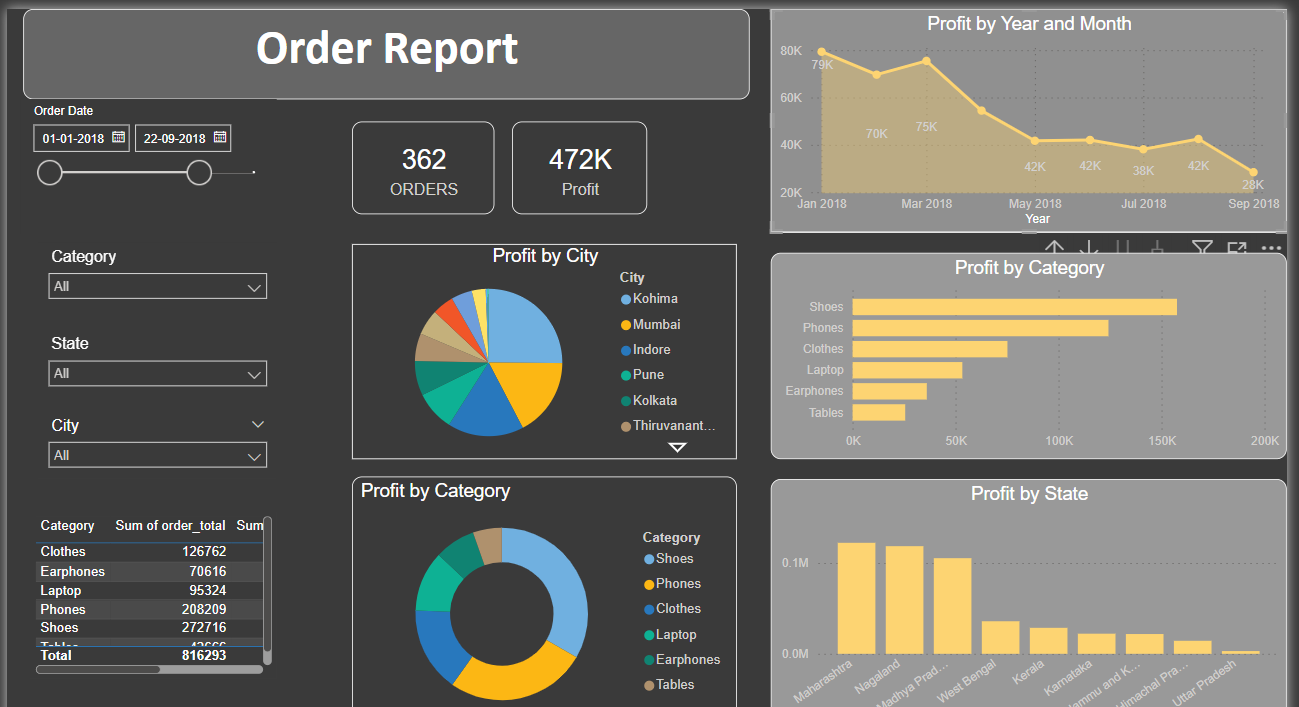

What the dashboard file says about the page in this screenshot:
{"tool":"powerbi","page":{"name":"Page 1","canvas":[1280,720],"ordinal":0},"visuals":[{"type":"textbox","box":[16,0,726,90],"z":0},{"type":"card","fields":{"Values":["CountNonNull(Orders.Order ID)"]},"box":[345,112.5,142.5,92.5],"z":1000},{"type":"card","fields":{"Values":["Sum(Orders.Profit)"]},"box":[505,112.5,135,92.5],"z":2000},{"type":"stackedAreaChart","fields":{"Category":["Orders.Order Date.Variation.Date Hierarchy.Year","Orders.Order Date.Variation.Date Hierarchy.Month"],"Y":["Sum(Orders.Profit)"]},"box":[764,0,516,224],"z":3000},{"type":"clusteredBarChart","fields":{"Y":["Sum(Orders.Profit)"],"Category":["Orders.Category"]},"box":[764,244,516,206],"z":4000},{"type":"clusteredColumnChart","fields":{"Category":["Orders.State"],"Y":["Sum(Orders.Profit)"]},"box":[764,470,516,250],"z":5000},{"type":"donutChart","fields":{"Y":["Sum(Orders.Profit)"],"Category":["Orders.Category"]},"box":[345,467.5,385,252.5],"z":6000},{"type":"pieChart","fields":{"Category":["Orders.City"],"Y":["Sum(Orders.Profit)"]},"box":[345,235,385,215],"z":7000},{"type":"tableEx","fields":{"Values":["Orders.Category","Sum(Orders.order_total)","Sum(Orders.Product cost)","Sum(Orders.Profit)"]},"box":[22.5,502.5,247.5,167.5],"z":8000},{"type":"slicer","fields":{"Values":["Orders.Order Date"]},"box":[14.3,90,255.7,134.3],"z":9000},{"type":"slicer","fields":{"Values":["Orders.Category"]},"box":[31.2,233.8,238.8,87.5],"z":10000},{"type":"slicer","fields":{"Values":["Orders.City"]},"box":[31.2,402.5,238.8,67.5],"z":11000},{"type":"slicer","fields":{"Values":["Orders.State"]},"box":[31.2,321.2,238.8,81.2],"z":12000}]}

Visuals, with their boxes in screenshot pixels (x1, y1, x2, y2):
textbox: bbox=[16, 0, 745, 90]
card - CountNonNull(Orders.Order ID): bbox=[346, 113, 489, 206]
card - Sum(Orders.Profit): bbox=[507, 113, 643, 206]
stackedAreaChart - Orders.Order Date.Variation.Date Hierarchy.Year x Orders.Order Date.Variation.Date Hierarchy.Month: bbox=[767, 0, 1285, 225]
clusteredBarChart - Sum(Orders.Profit) x Orders.Category: bbox=[767, 245, 1285, 452]
clusteredColumnChart - Orders.State x Sum(Orders.Profit): bbox=[767, 472, 1285, 706]
donutChart - Sum(Orders.Profit) x Orders.Category: bbox=[346, 469, 733, 706]
pieChart - Orders.City x Sum(Orders.Profit): bbox=[346, 236, 733, 452]
tableEx - Orders.Category x Sum(Orders.order_total): bbox=[23, 504, 271, 673]
slicer - Orders.Order Date: bbox=[14, 90, 271, 225]
slicer - Orders.Category: bbox=[31, 235, 271, 323]
slicer - Orders.City: bbox=[31, 404, 271, 472]
slicer - Orders.State: bbox=[31, 322, 271, 404]
